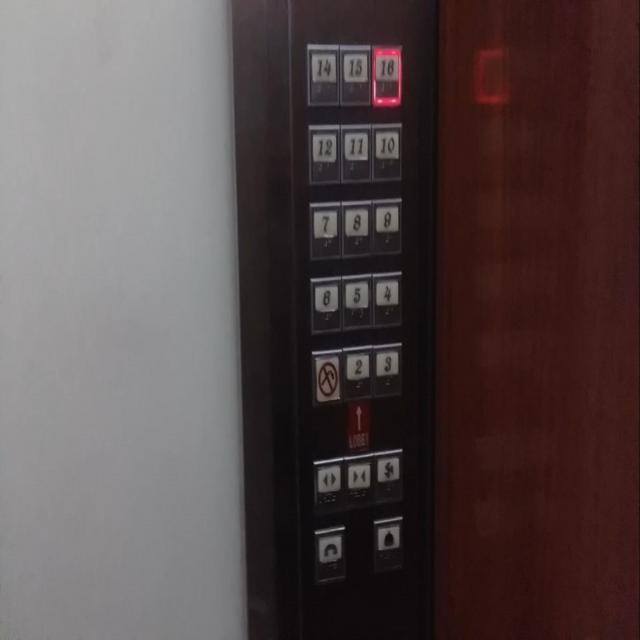10: (372, 120, 400, 183)
11: (341, 122, 371, 184)
12: (307, 122, 340, 186)
14: (308, 42, 340, 105)
15: (340, 44, 370, 107)
16: (371, 44, 401, 107)
2: (342, 342, 372, 400)
3: (372, 339, 404, 394)
4: (372, 268, 402, 327)
5: (340, 270, 371, 329)
6: (309, 273, 341, 337)
7: (309, 202, 340, 259)
8: (340, 199, 370, 256)
9: (372, 198, 401, 252)
alarm: (372, 516, 403, 558)
call: (313, 529, 345, 572)
close: (344, 453, 372, 495)
fan: (373, 446, 402, 492)
open: (311, 454, 344, 506)
unknown: (310, 348, 343, 408)
